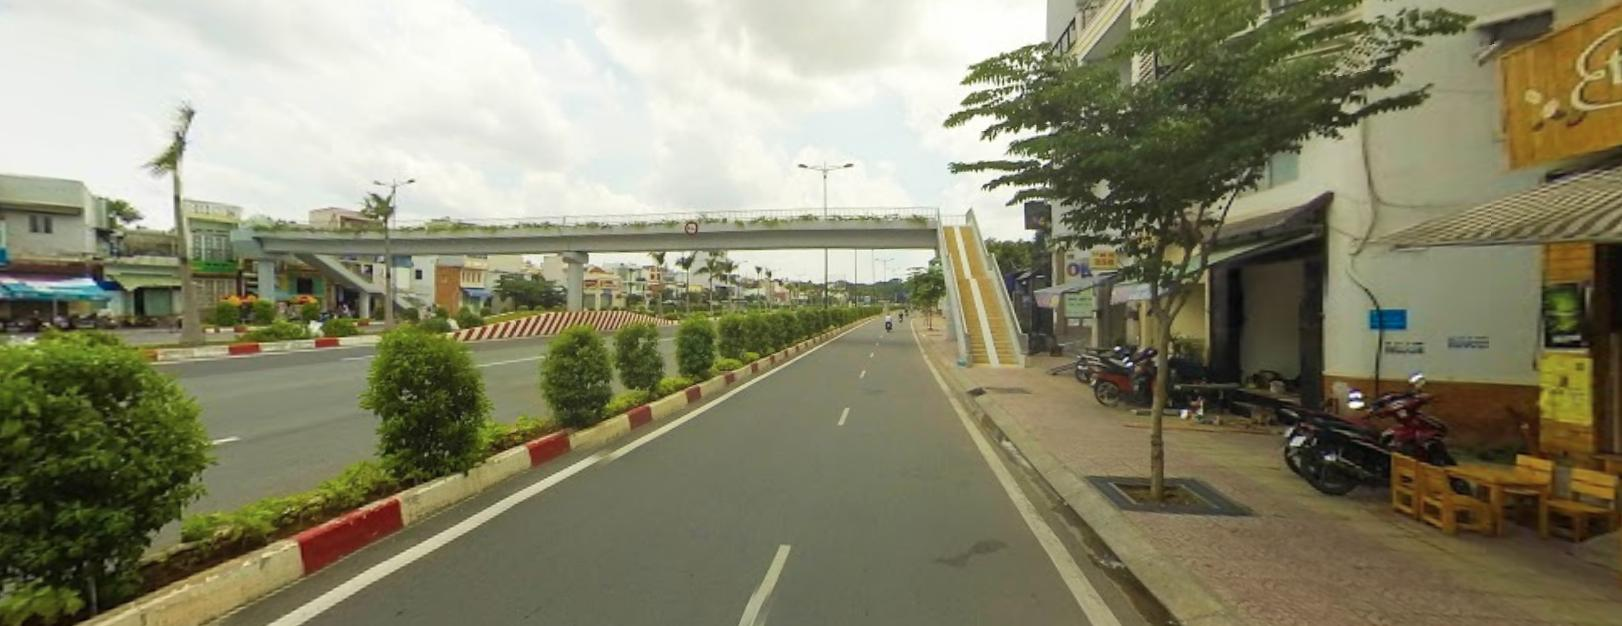Cam con lai: (684, 219, 697, 233)
